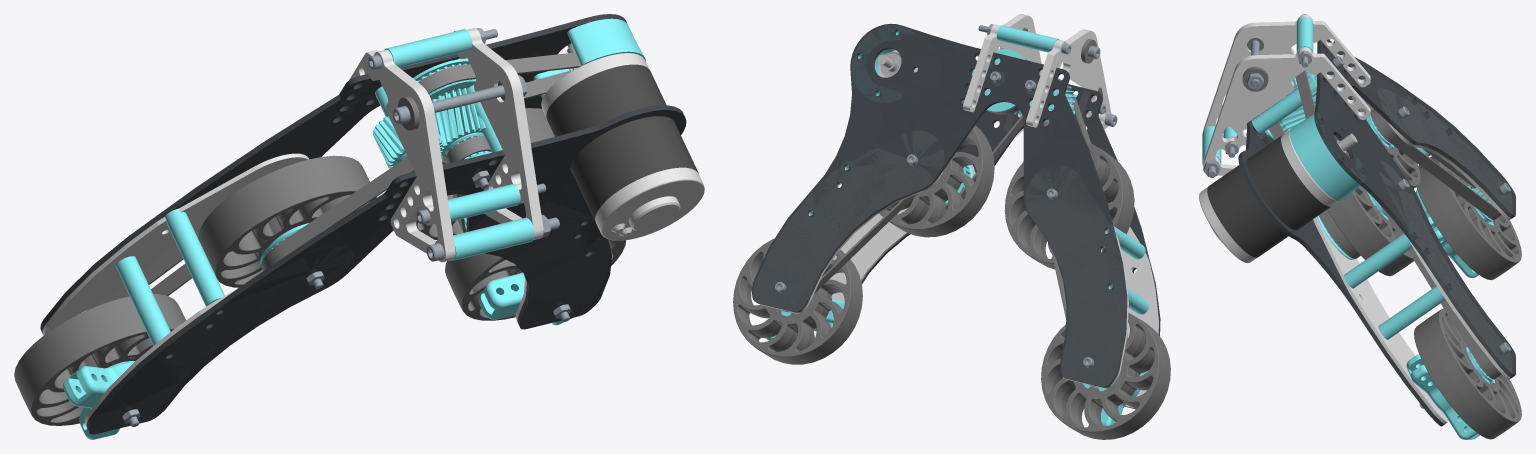
File: Robot_Hydra_1.glb
3 renders of one model, left to right at view 1: azimuth 30°, elevation 25°; view 2: azimuth 150°, elevation 25°; view 3: azimuth 270°, elevation 25°, orthographic. The views are drawn at different scales.
Parts seen in each view (by area): view 1: ClawUpperPlate, Compliant Wheel - 4in - MAXSpline (×4), Mini CIM Motor (217-3371), ClawLowerPlate, Part 1 (×5), WristPlateR, WristPlateL, 60T HTD Belt (×3), Scab4, DeadAxle1 (×2), GearL, NeoSpacer (+4 smaller); view 2: ClawLowerPlate, Compliant Wheel - 4in - MAXSpline (×4), ClawUpperPlate, WristPlateR, WristPlateL, Scab1, Scab3, Part 1 (×2), 75T HTD Belt, Scab2, 60T HTD Belt, GearL (+1 smaller); view 3: ClawLowerPlate, Compliant Wheel - 4in - MAXSpline (×4), Mini CIM Motor (217-3371), WristPlateL, Part 1 (×5), WristPlateR, 75T HTD Belt (×2), ClawUpperPlate, Scab1, NeoSpacer, DeadAxle1 (×2), 60T HTD Belt (×2) (+5 smaller).
Part boxes in pixels (box(x1,y1,x2,y2)): ClawUpperPlate: box(86, 105, 686, 434); Compliant Wheel - 4in - MAXSpline (×4): box(14, 108, 625, 425); Mini CIM Motor (217-3371): box(541, 43, 704, 240); ClawLowerPlate: box(40, 14, 627, 333); Part 1 (×5): box(115, 29, 534, 345); WristPlateR: box(349, 49, 455, 262); WristPlateL: box(454, 28, 543, 239); 60T HTD Belt (×3): box(261, 52, 580, 270); Scab4: box(42, 153, 308, 335); DeadAxle1 (×2): box(63, 250, 612, 439); GearL: box(413, 59, 491, 160); NeoSpacer: box(533, 18, 645, 98); ClawLowerPlate: box(752, 23, 1127, 387); Compliant Wheel - 4in - MAXSpline (×4): box(733, 125, 1170, 439); ClawUpperPlate: box(814, 69, 1160, 409); WristPlateR: box(1026, 29, 1111, 129); WristPlateL: box(963, 14, 1042, 137); Scab1: box(815, 165, 975, 330); Scab3: box(1111, 202, 1158, 408); Part 1 (×2): box(997, 25, 1145, 259); 75T HTD Belt: box(781, 194, 917, 311); Scab2: box(758, 165, 943, 313); 60T HTD Belt: box(945, 111, 1023, 210); GearL: box(971, 48, 1025, 114); ClawLowerPlate: box(1314, 39, 1515, 377); Compliant Wheel - 4in - MAXSpline (×4): box(1327, 95, 1521, 439); Mini CIM Motor (217-3371): box(1199, 130, 1357, 263); WristPlateL: box(1203, 47, 1370, 175); Part 1 (×5): box(1202, 17, 1445, 339); WristPlateR: box(1203, 14, 1370, 137); 75T HTD Belt (×2): box(1370, 109, 1501, 379); ClawUpperPlate: box(1238, 113, 1444, 426); Scab1: box(1313, 217, 1448, 423); NeoSpacer: box(1289, 113, 1360, 200); DeadAxle1 (×2): box(1406, 186, 1494, 439); 60T HTD Belt (×2): box(1262, 70, 1360, 258).
Bounding box in the file's own units: 0.381 × 0.2634 × 0.2392.
